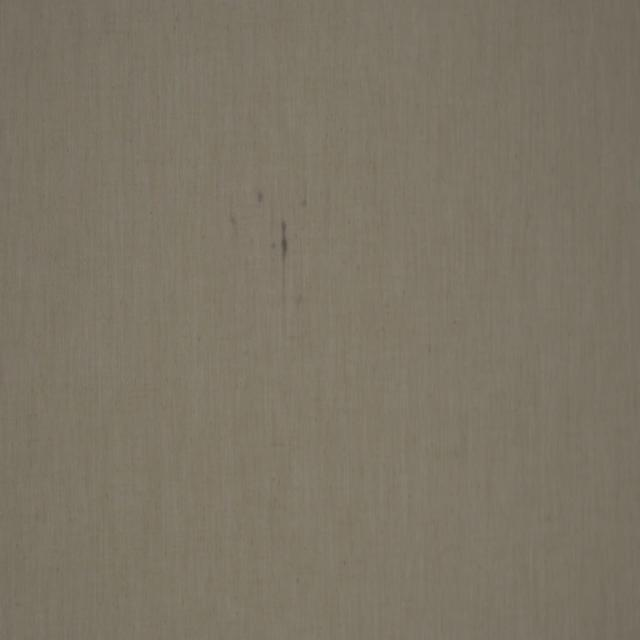dirty: (270, 223, 293, 259), (295, 291, 306, 313), (228, 215, 240, 232), (300, 192, 309, 210), (257, 190, 264, 208)
